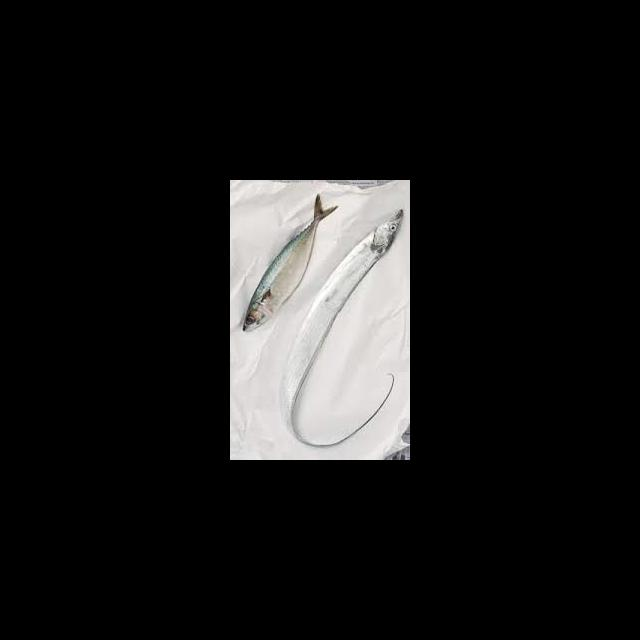fish: (243, 194, 336, 331)
